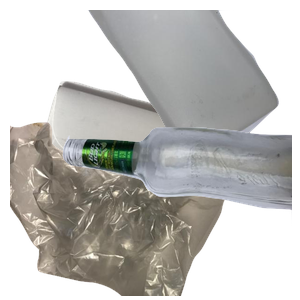glass: (60, 124, 300, 300)
paper: (25, 79, 265, 259)
plastic: (84, 10, 300, 157)
trash: (10, 120, 231, 300)
